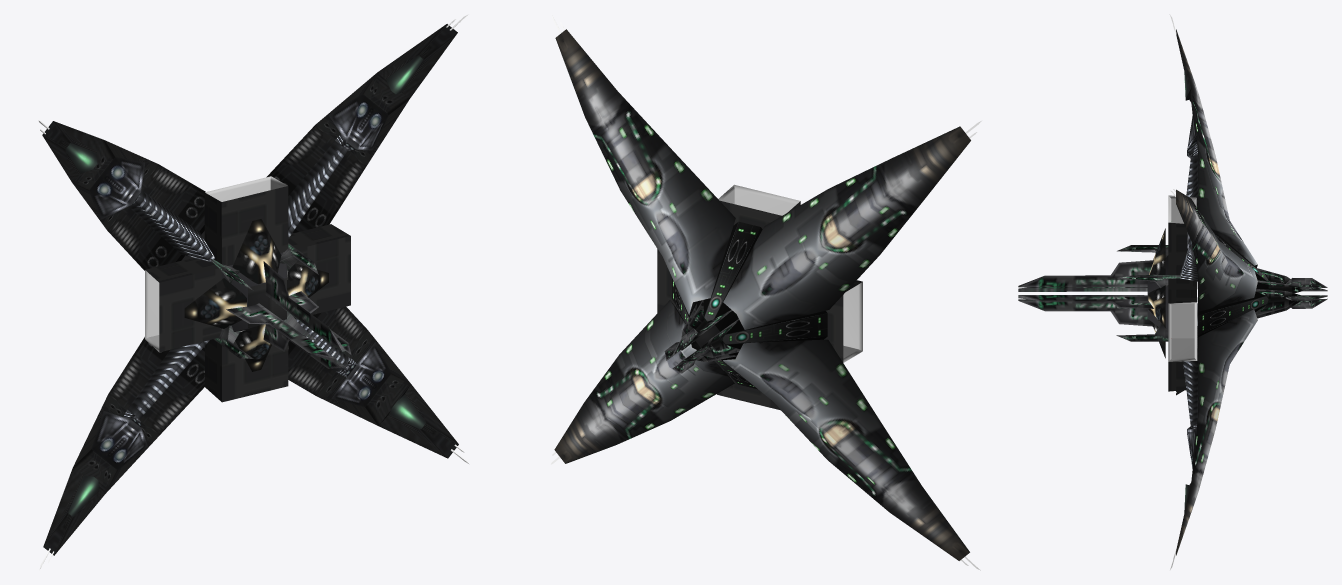
3 views of the same model, side by side, from view 1: azimuth 30°, elevation 25°; view 2: azimuth 150°, elevation 25°; view 3: azimuth 270°, elevation 25° (orthographic). The views are drawn at different scales.
Parts seen in each view (by area): view 1: frm-cube1_27, frm-cube1_29, frm-cube1_31, frm-cube1_30, frm-east_bay_11_6, frm-east_bay_11_10, frm-east_bay_11_8, frm-east_bay_11_9, frm-cube22_2_25, frm-cube22_2_28, frm-extru45, frm-extru44 (+4 smaller); view 2: frm-cube1_27, frm-cube1_31, frm-cube1_29, frm-cube1_30, frm-cube5_1, frm-east_bay_11_10, frm-east_bay_11_6, frm-east_bay_11_8, frm-east_bay_11_9; view 3: frm-cube1_30, frm-cube1_29, frm-cube1_27, frm-east_bay_11_9, frm-extru45, frm-cube5_1, frm-extru43, frm-east_bay_11_6, frm-extru15, frm-extru35, frm-extru44, frm-cube22_2_2 (+5 smaller).
Part boxes in pixels (x1,y1,x2,y2): frm-cube1_27: (42,121,214,270); frm-cube1_29: (266,24,457,238); frm-cube1_31: (43,337,209,555); frm-cube1_30: (288,306,458,458); frm-east_bay_11_6: (204,176,288,265); frm-east_bay_11_10: (145,258,221,352); frm-east_bay_11_8: (205,330,288,402); frm-east_bay_11_9: (287,224,350,318); frm-cube22_2_25: (184,278,246,328); frm-cube22_2_28: (232,219,281,283); frm-extru45: (263,261,345,351); frm-extru44: (226,303,336,362); frm-cube1_27: (723,126,970,329); frm-cube1_31: (723,339,969,560); frm-cube1_29: (555,29,735,314); frm-cube1_30: (554,300,734,463); frm-cube5_1: (672,221,827,389); frm-east_bay_11_10: (824,280,862,362); frm-east_bay_11_6: (718,184,800,228); frm-east_bay_11_8: (717,375,780,410); frm-east_bay_11_9: (657,249,677,312); frm-cube1_30: (1176,309,1257,555); frm-cube1_29: (1176,189,1257,311); frm-cube1_27: (1176,29,1257,267); frm-east_bay_11_9: (1168,278,1197,361); frm-extru45: (1018,260,1153,287); frm-cube5_1: (1198,234,1268,348); frm-extru43: (1018,299,1152,326); frm-east_bay_11_6: (1168,195,1196,275); frm-extru15: (1018,295,1153,308); frm-extru35: (1255,289,1301,315); frm-extru44: (1018,287,1147,291); frm-cube22_2_2: (1148,285,1165,327).
Size of the model in its own units: 104 by 95.11 by 69.96.
